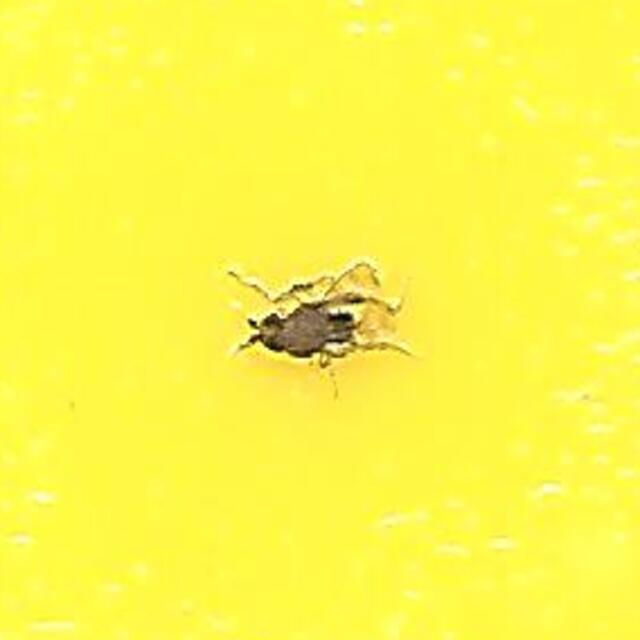Brachycera: (225, 261, 415, 379)
